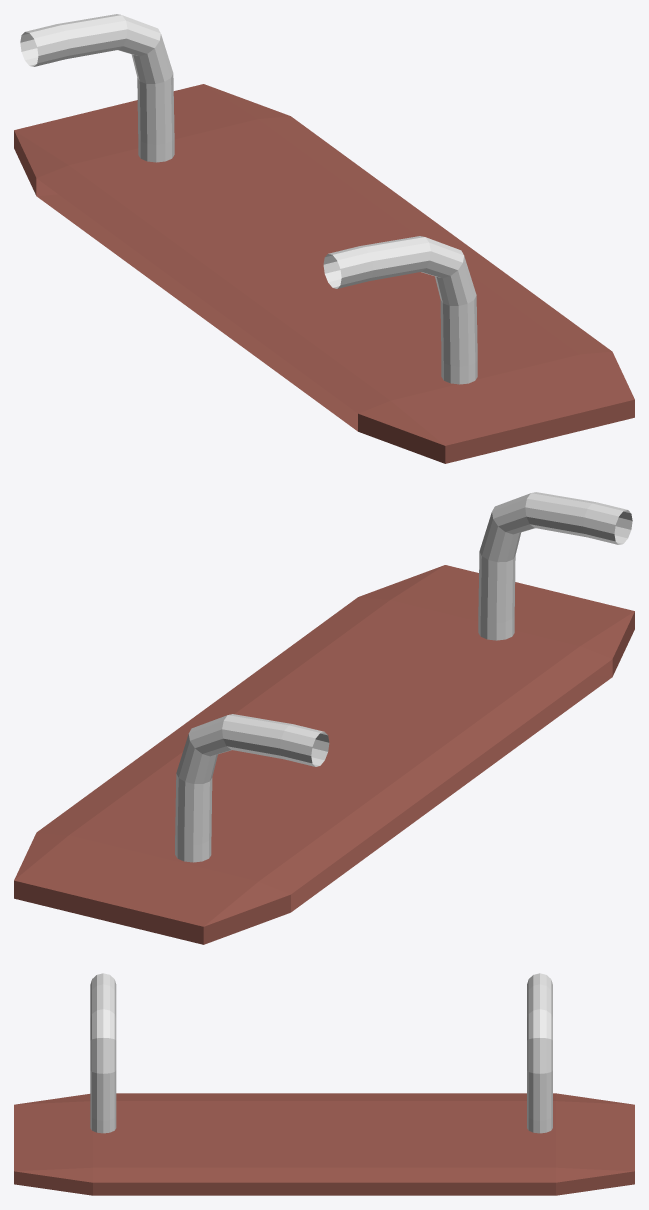
Rendered from Estanteria.fbx.
3 views of the same model, one above another, from view 1: azimuth 30°, elevation 25°; view 2: azimuth 150°, elevation 25°; view 3: azimuth 270°, elevation 25° (orthographic). The views are drawn at different scales.
Parts seen in each view (by area): view 1: EstanteriaPared; view 2: EstanteriaPared; view 3: EstanteriaPared.
Boxes of the visible parts, bbox=[...] form: EstanteriaPared: bbox=[14, 14, 634, 463]; EstanteriaPared: bbox=[14, 492, 634, 944]; EstanteriaPared: bbox=[14, 973, 634, 1195].
Size of the model in its own units: 0.5125 by 0.3251 by 1.4.
